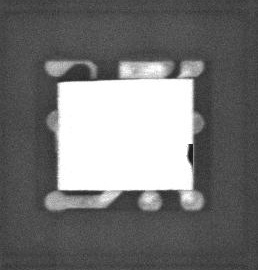DIE_BROKEN: (184, 142, 196, 169)
